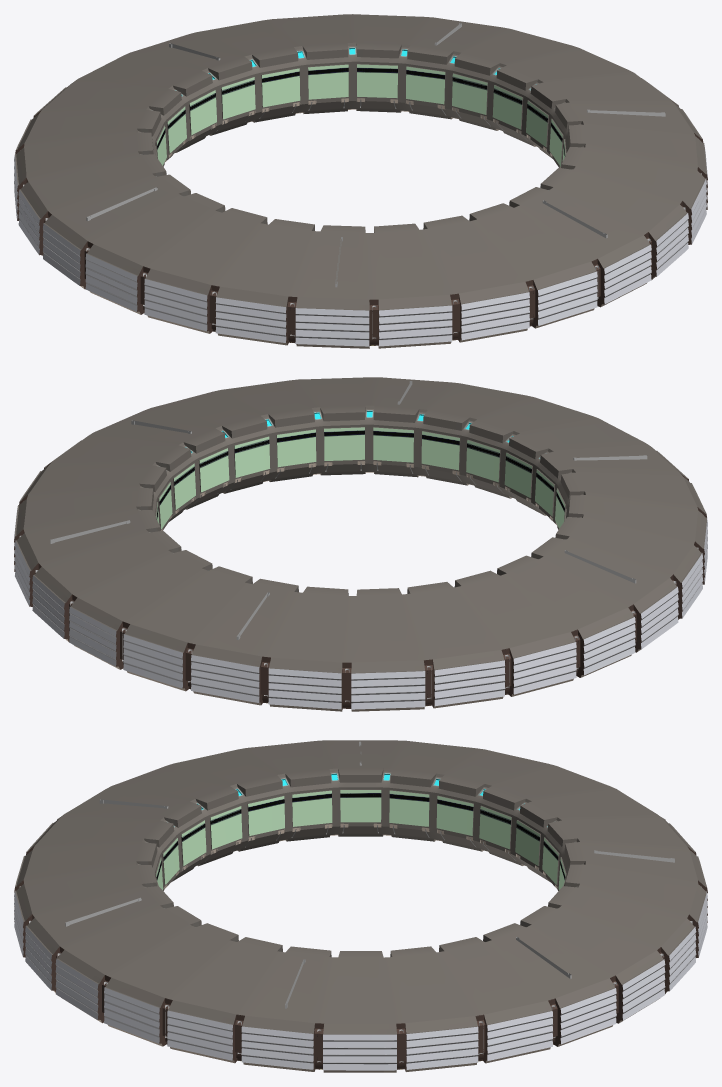
Rendered from Tower.fbx.
3 views of the same model, one above another, from view 1: azimuth 30°, elevation 25°; view 2: azimuth 150°, elevation 25°; view 3: azimuth 270°, elevation 25° (orthographic).
Visible parts, largest first — view 1: polySurface169; view 2: polySurface169; view 3: polySurface169.
Boxes of the visible parts, box(x1,y1,x2,y2) form: polySurface169: box(14, 14, 707, 348); polySurface169: box(14, 377, 707, 711); polySurface169: box(14, 740, 707, 1072).
Bounding box in the file's own units: 84.59 × 9 × 85.02.
Materials: 3 (3 with a texture image).
